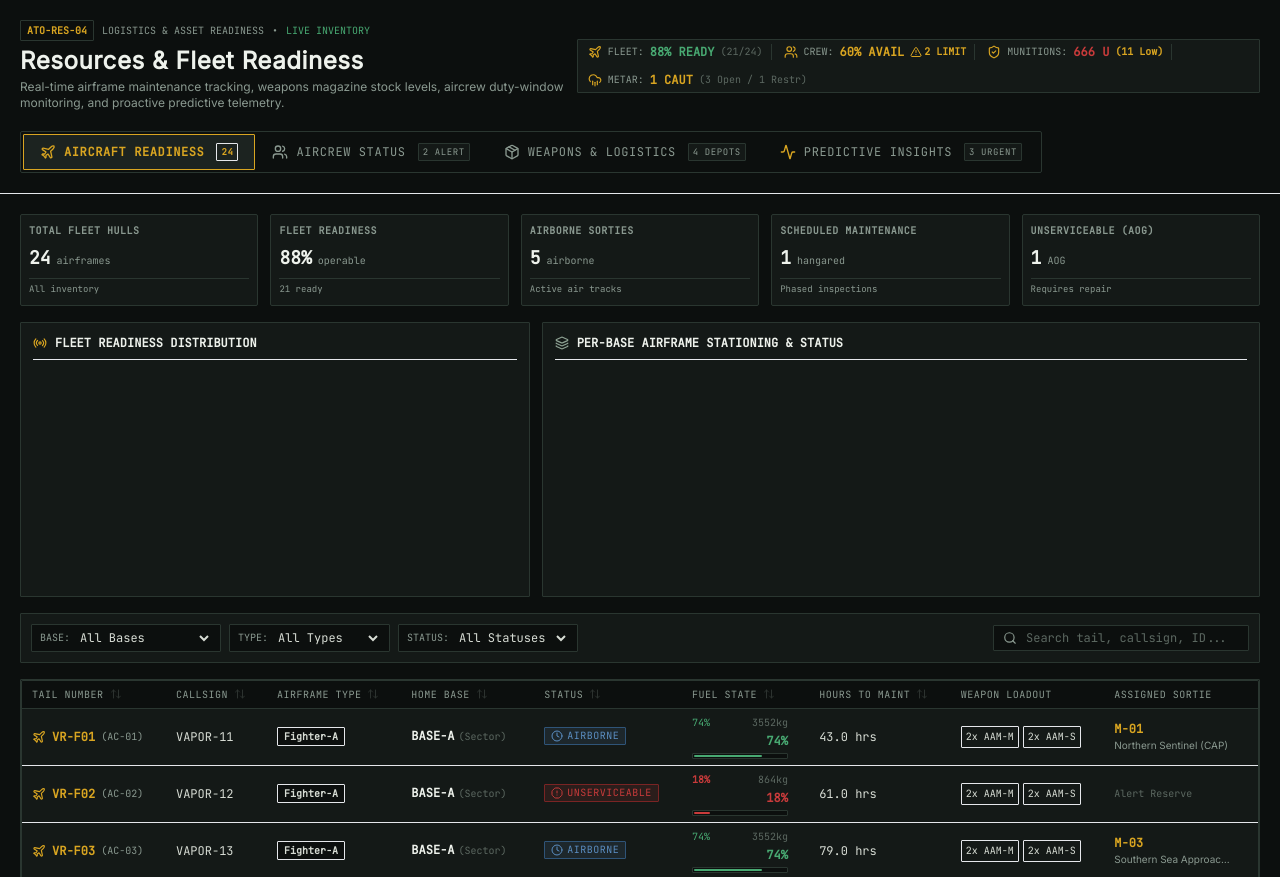
Test: ResourcesPage (Resource Readiness Views & Logistics) › switches to predictions tab, shows confidence bars and allows urgency sorting
Switch to predictions tab
Click the tab "Predictive Insights 3 Urgent". click: x=901, y=152
box: [763,134,1039,170]
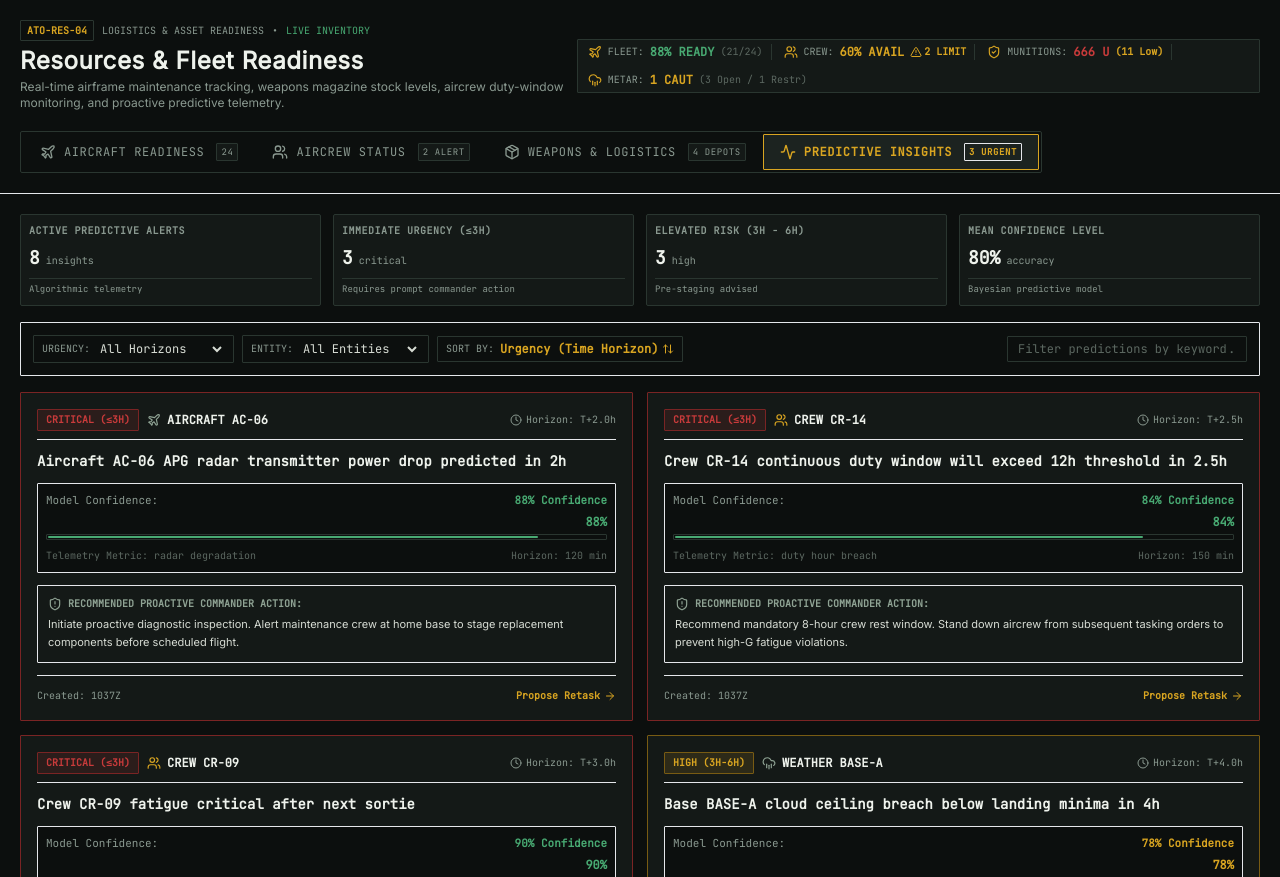
Expected: the text "Active Predictive Alerts" is shown, [29,223,185,238]
Expected: the text "Immediate Urgency (≤3h)" is shown, [342,223,492,238]
Expected: the heading "Crew CR-09 fatigue critical after next sortie" is shown, [37,794,415,812]
Filter by entity type: Aircraft only
Select "Aircraft Hulls" in the dropdown named "Filter by entity type". click: x=360, y=348
box: [299,340,420,358]
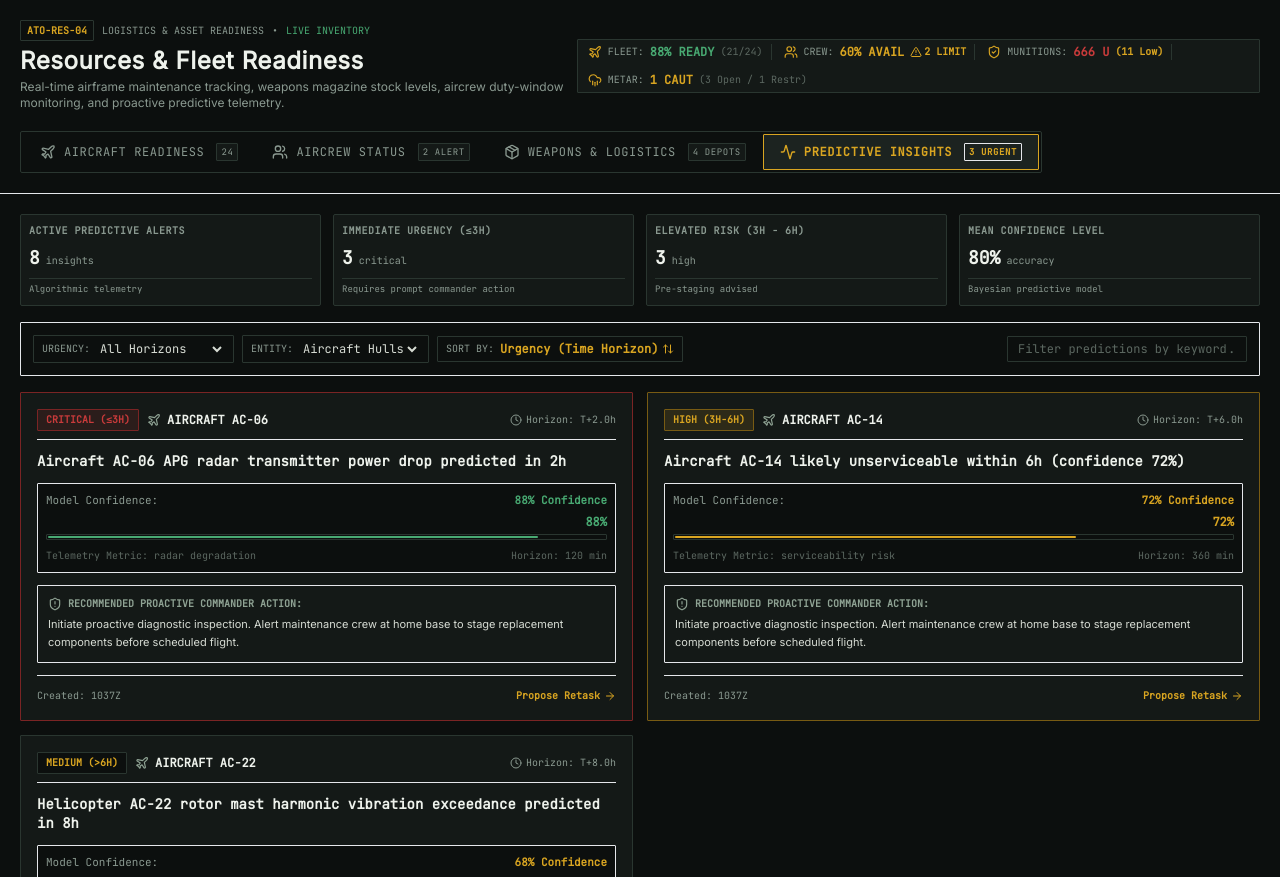
Expected: the heading "Aircraft AC-14 likely unserviceable within 6h" is shown, [664,452,1185,470]
Expected: the heading "Crew CR-09 fatigue critical" is gone
Return to All
Select "All Entities" in the dropdown named "Filter by entity type". click: x=360, y=348
box: [299,340,420,358]
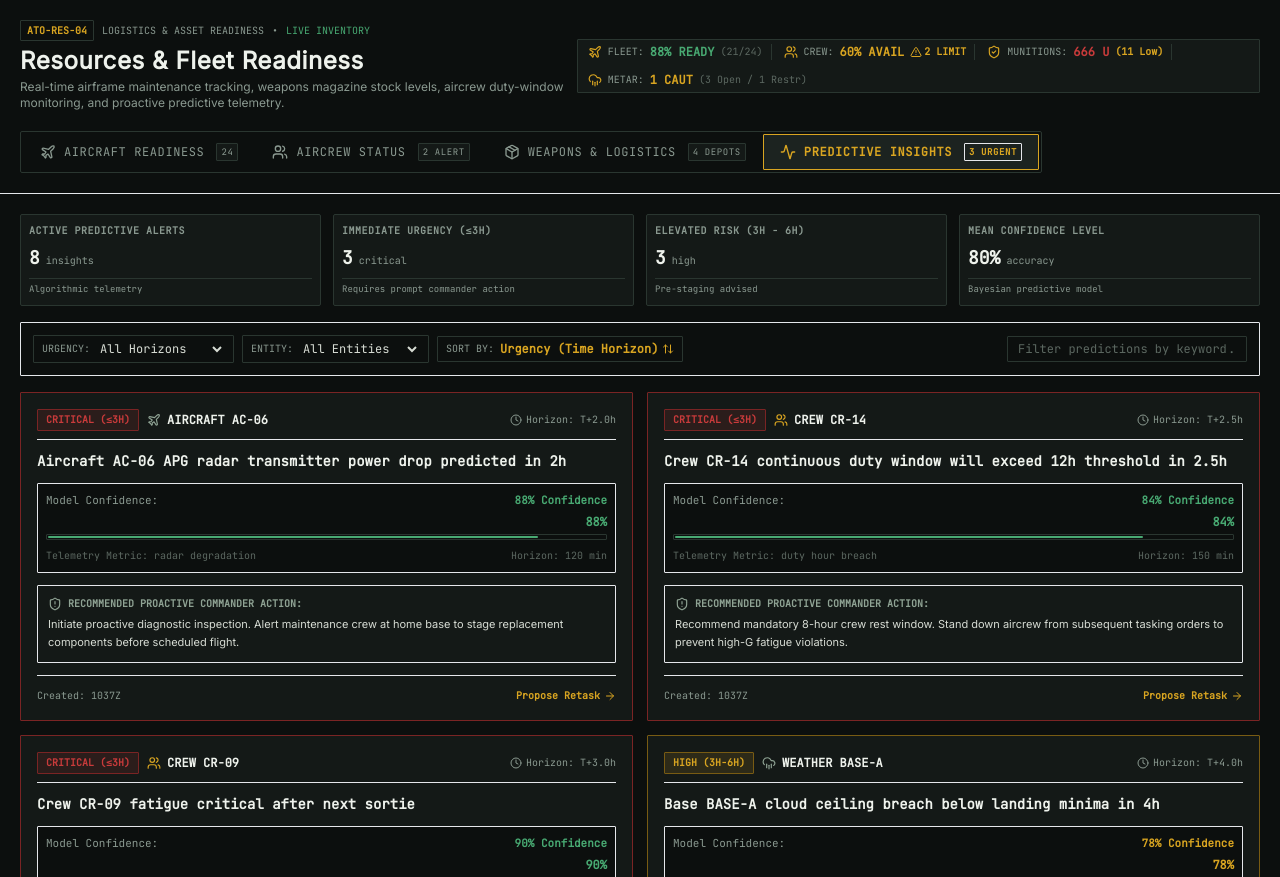
Expected: the heading "Crew CR-09 fatigue critical after next sortie" is shown, [37,794,415,812]
Toggle Sort by
Click the button "Urgency (Time Horizon)". click: x=587, y=348
box: [500,340,674,356]
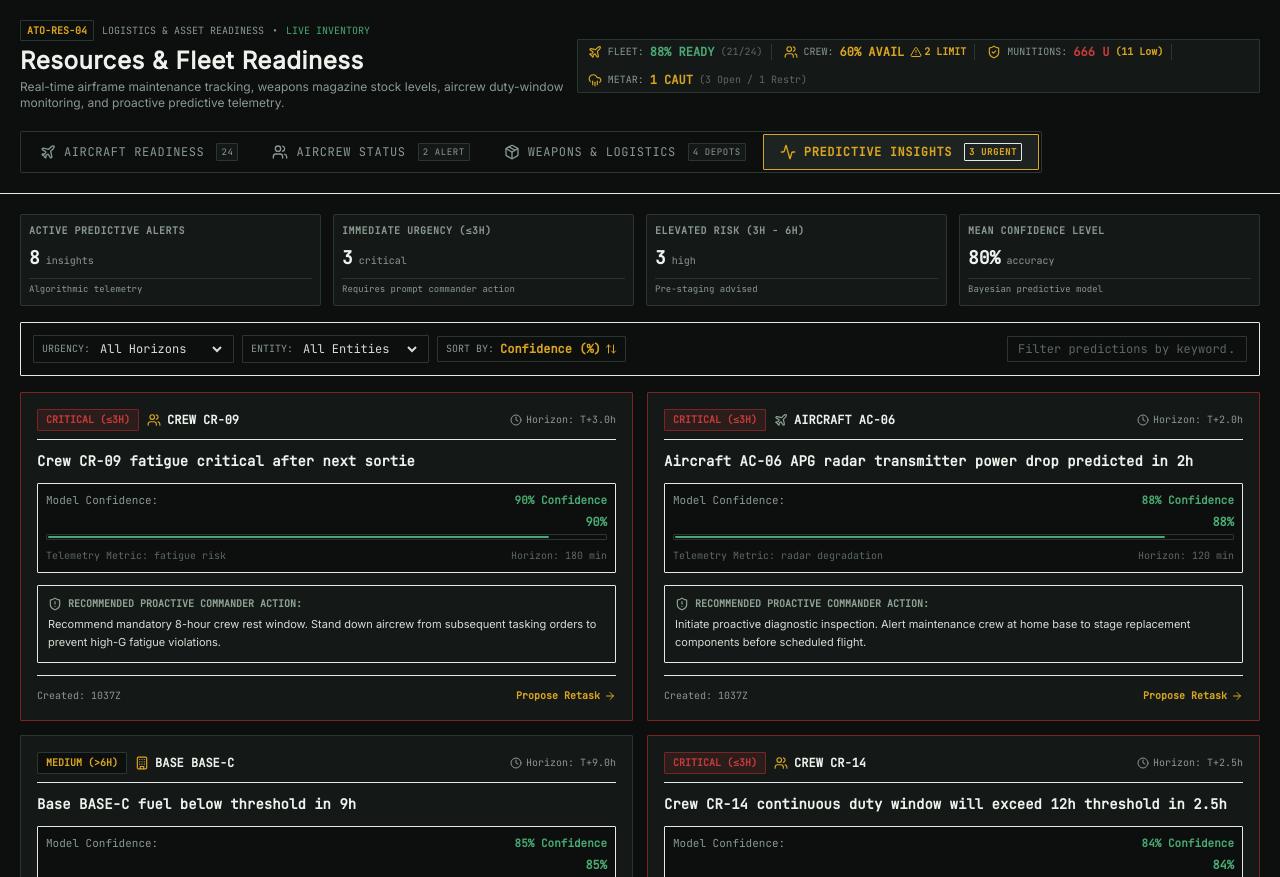
Expected: the button "Confidence (%)" is shown, [500,340,617,356]
